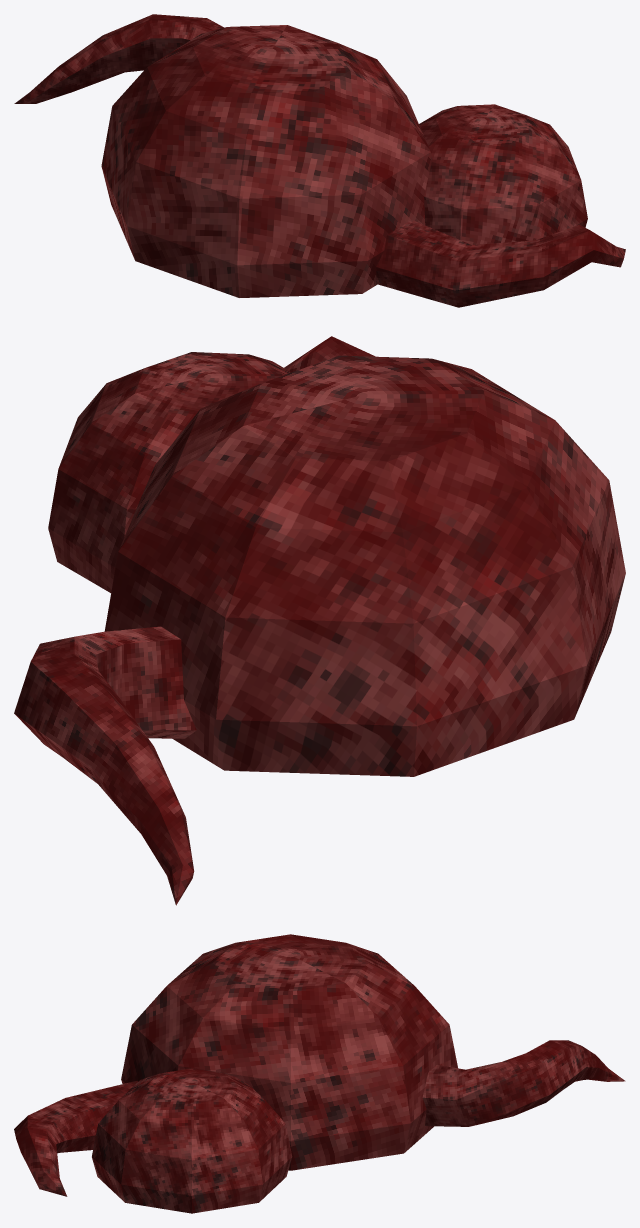
The model's file is pustule_grp_2.fbx.
The picture shows the model from 3 angles, top to bottom: view 1: azimuth 30°, elevation 25°; view 2: azimuth 150°, elevation 25°; view 3: azimuth 270°, elevation 25°; orthographic projection. The views are drawn at different scales.
Visible parts, largest first — view 1: bubble_7, bubble_6, root_6, root_7; view 2: bubble_7, root_7, bubble_6, root_6; view 3: bubble_7, bubble_6, root_7, root_6.
Boxes of the visible parts, x1,y1,x2,y2 form: bubble_7: (101,25,432,297); bubble_6: (419,104,587,245); root_6: (376,220,625,307); root_7: (14,14,223,103); bubble_7: (104,355,625,776); root_7: (14,626,196,905); bubble_6: (48,352,291,592); root_6: (284,336,375,372); bubble_7: (121,934,457,1170); bubble_6: (92,1068,292,1213); root_7: (422,1040,625,1126); root_6: (14,1081,137,1196).
Size of the model in its own units: 14.62 by 6.33 by 22.4.
